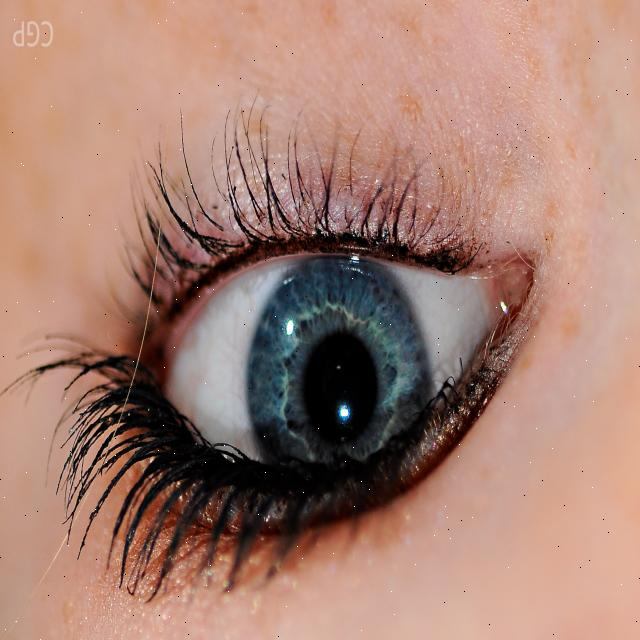Normal: (245, 245, 429, 519)
